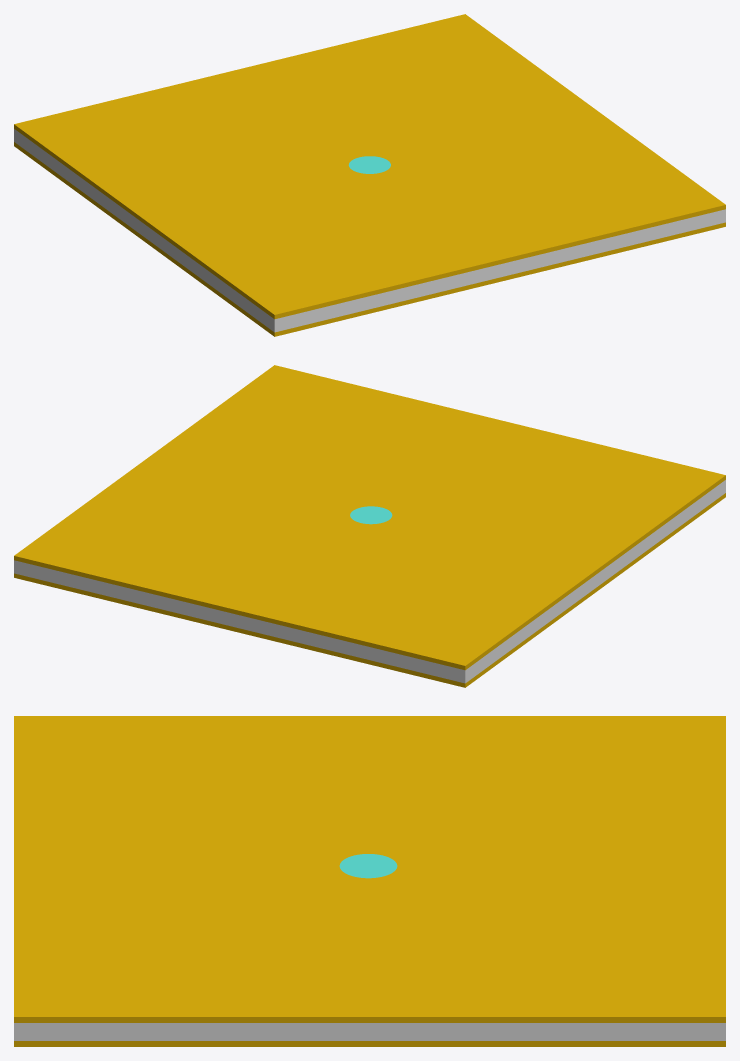
The model's file is ArxHorizontalPieceWithHole.fbx.
3 views of the same model, one above another, from view 1: azimuth 30°, elevation 25°; view 2: azimuth 150°, elevation 25°; view 3: azimuth 270°, elevation 25° (orthographic). The views are drawn at different scales.
Visible parts, largest first — view 1: polySurface41; view 2: polySurface41; view 3: polySurface41.
Part boxes in pixels (x1,y1,x2,y2): polySurface41: [14, 14, 725, 336]; polySurface41: [14, 365, 725, 687]; polySurface41: [14, 716, 725, 1046].
Size of the model in its own units: 43000 by 1999 by 43000.
